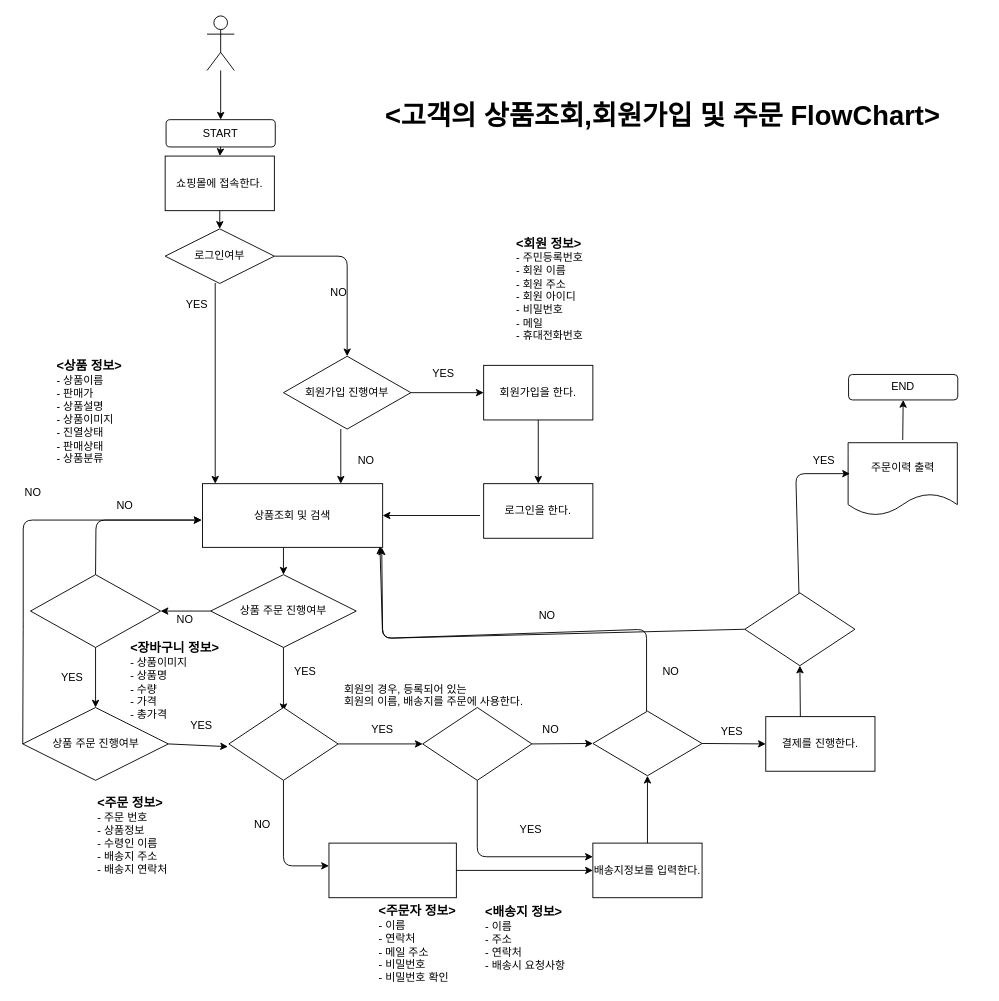
This 999x1001 diagram has some shape labels left out. The centre of each missing label's shape, as x and y in pixels:
"User" goes at point 220,43.
"결제 성공 유무" goes at point 799,629.
"로그인 여부" goes at point 283,743.
"배송지 정보 수정" goes at point 477,743.
"상품 장바구니 등록여부" goes at point 95,610.
"주문 성공 유무" goes at point 647,743.
"주문자 정보를 입력한다." goes at point 392,870.
